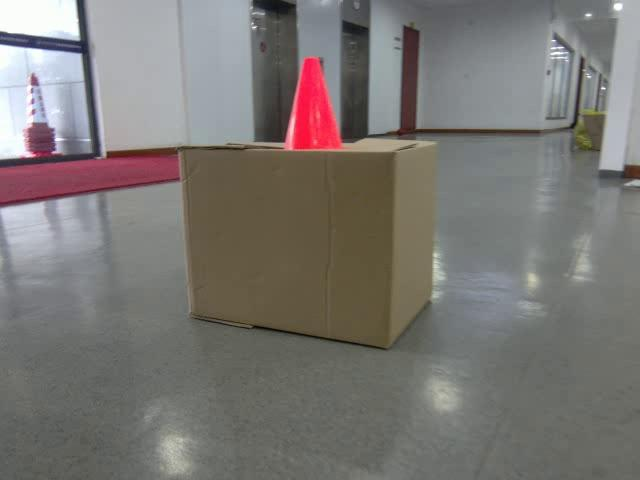orange_barrel: (280, 57, 344, 150)
